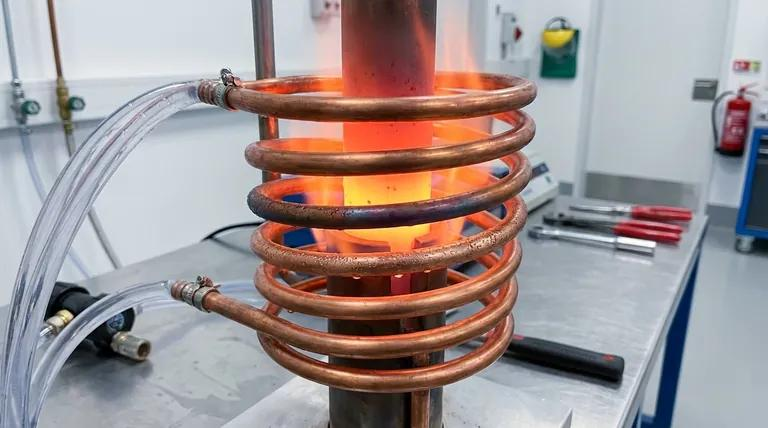controlled_fire: (276, 31, 515, 285)
